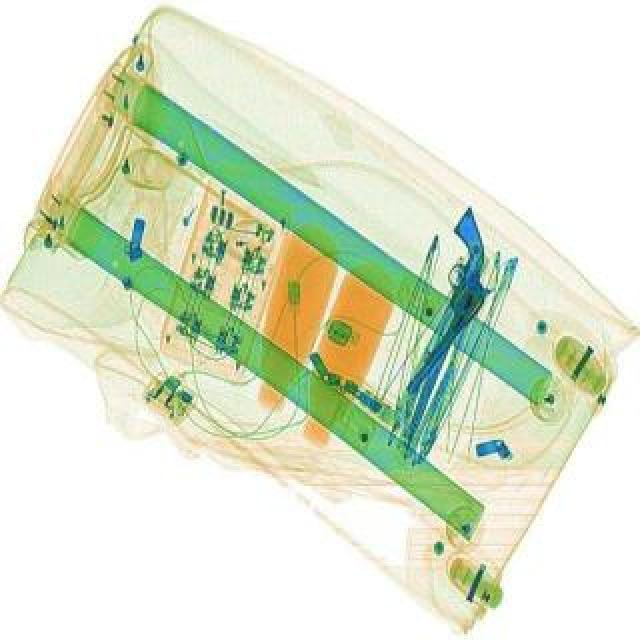gun: (366, 202, 526, 398)
